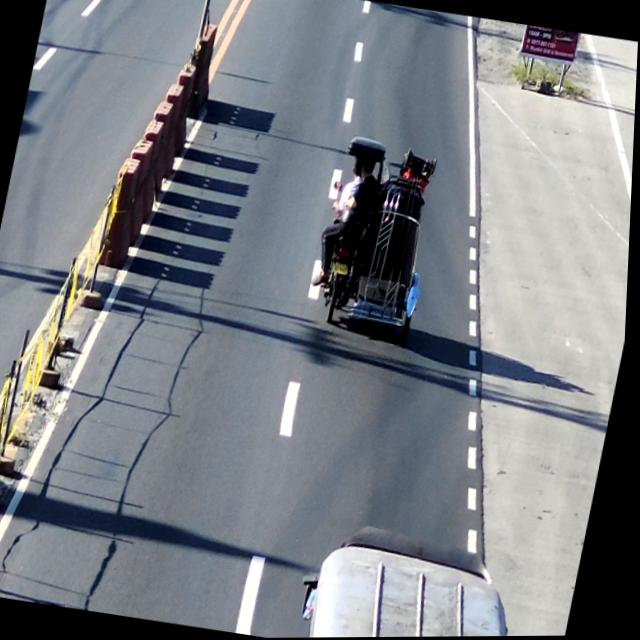Jeep: (293, 532, 538, 638)
Tricycle: (304, 133, 456, 348)
